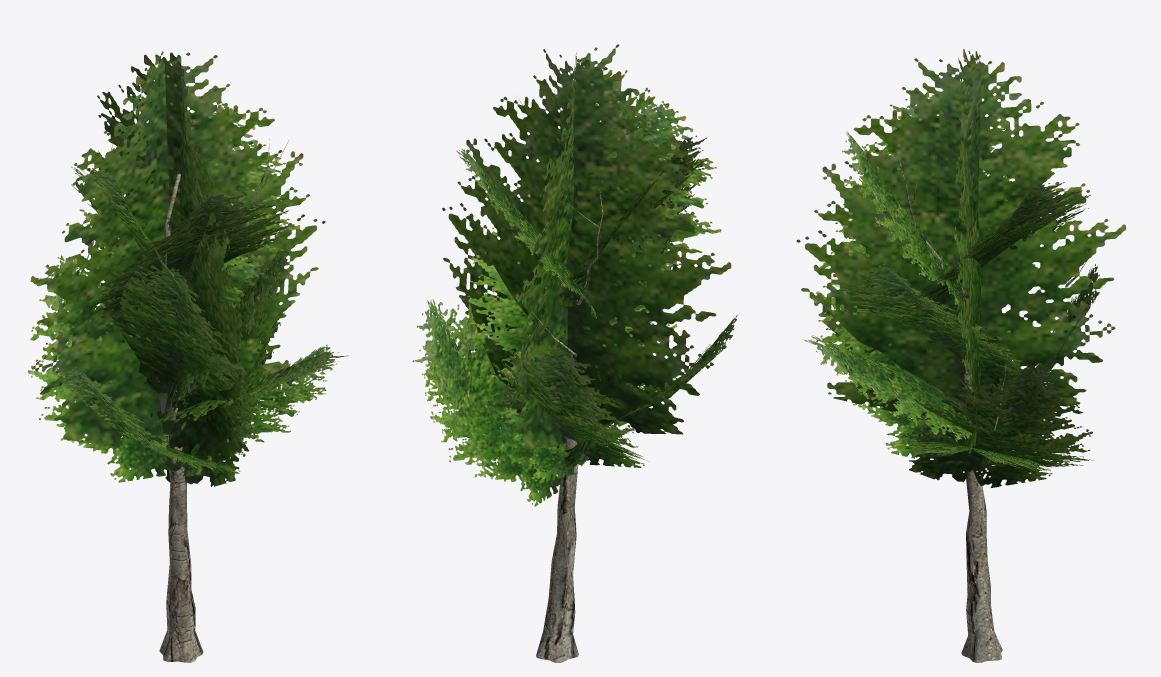
File: SM_Tree_03.fbx
The picture shows the model from 3 angles, left to right: view 1: azimuth 30°, elevation 25°; view 2: azimuth 150°, elevation 25°; view 3: azimuth 270°, elevation 25°; orthographic projection. The views are drawn at different scales.
Parts seen in each view (by area): view 1: SM_Tree_03; view 2: SM_Tree_03; view 3: SM_Tree_03.
Boxes of the visible parts, box(x1,y1,x2,y2) form: SM_Tree_03: box(28, 51, 347, 662); SM_Tree_03: box(412, 44, 739, 662); SM_Tree_03: box(796, 49, 1126, 662).
Size of the model in its own units: 353 by 341 by 644.
2 materials, 2 textured.
